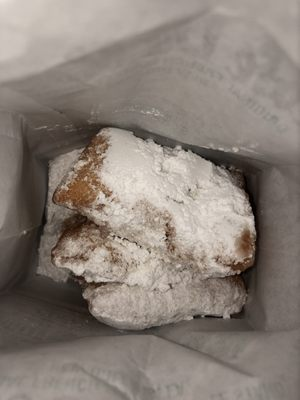soup: (41, 127, 258, 331)
